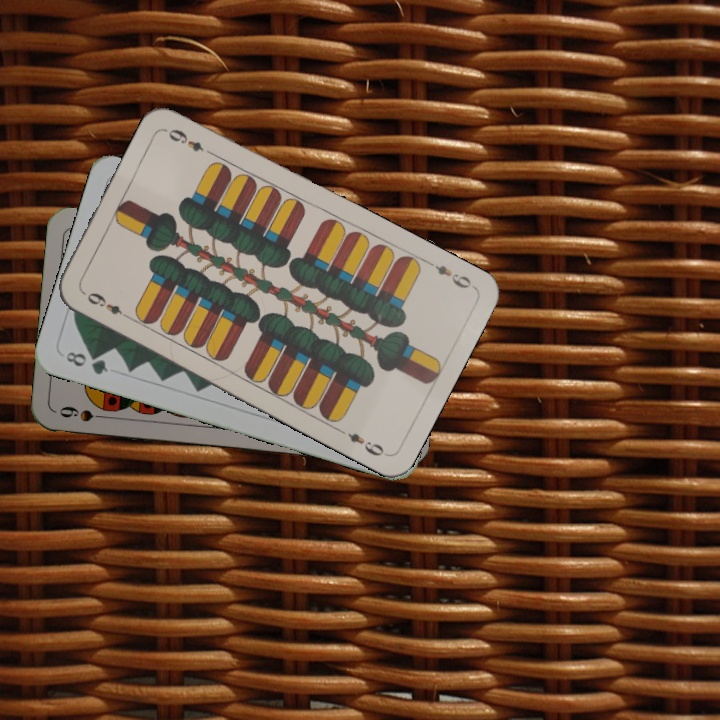E9: (422, 256, 474, 292), (83, 288, 133, 322)
G8: (61, 347, 111, 378)
S9: (55, 402, 114, 424)
